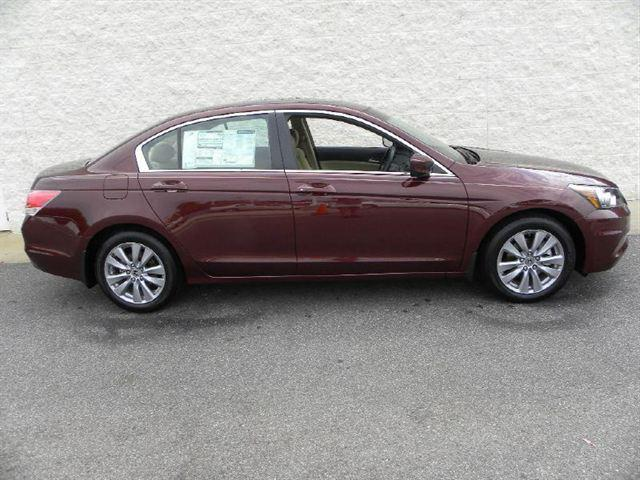Car: (2, 97, 638, 350)
